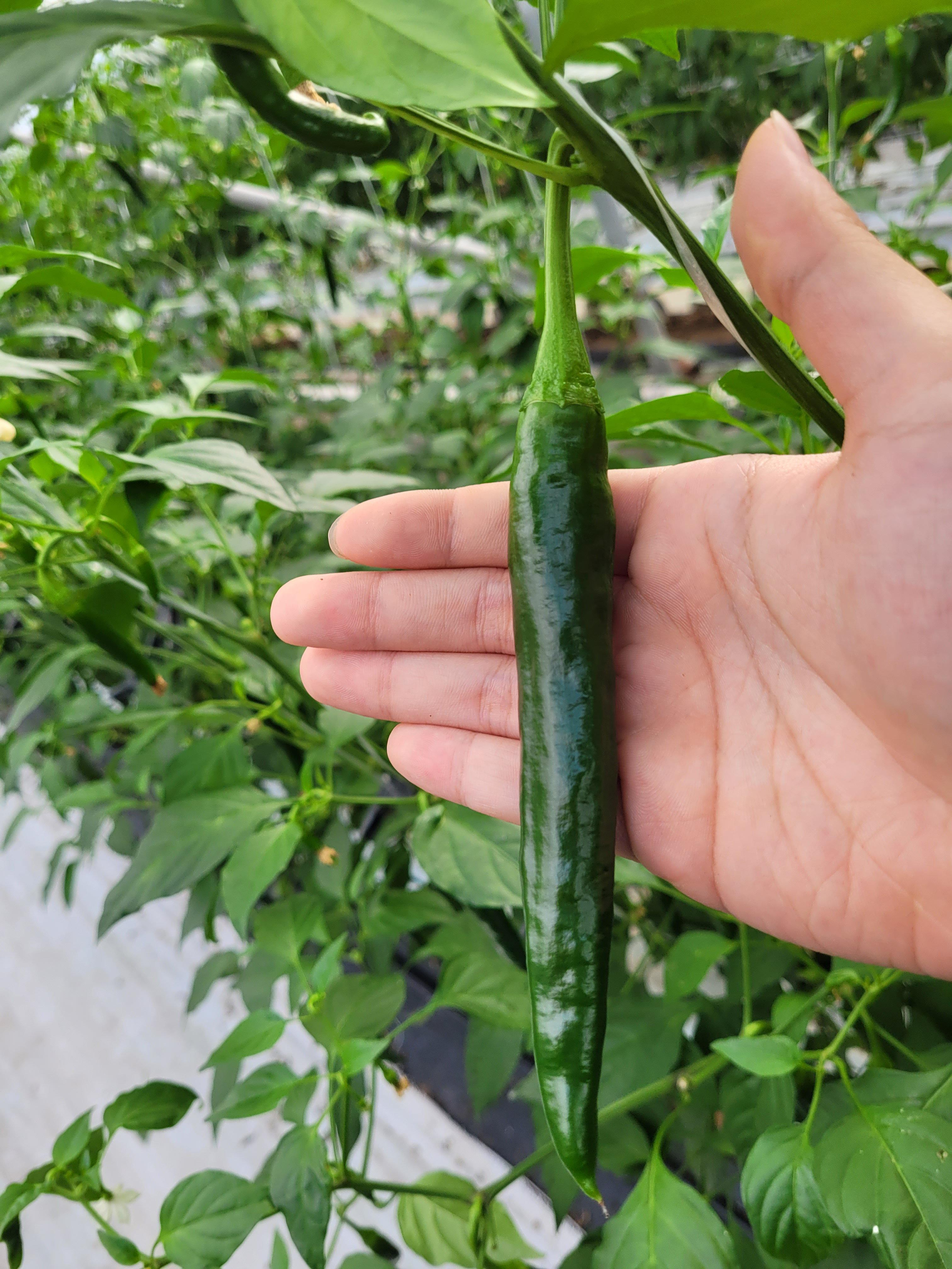Buah Cabai Sehat: (505, 331, 620, 1228)
